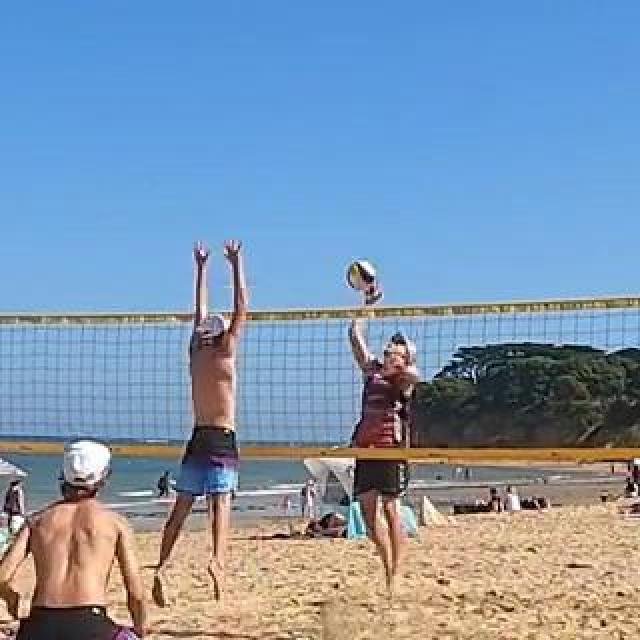volleyball: (346, 262, 374, 290)
